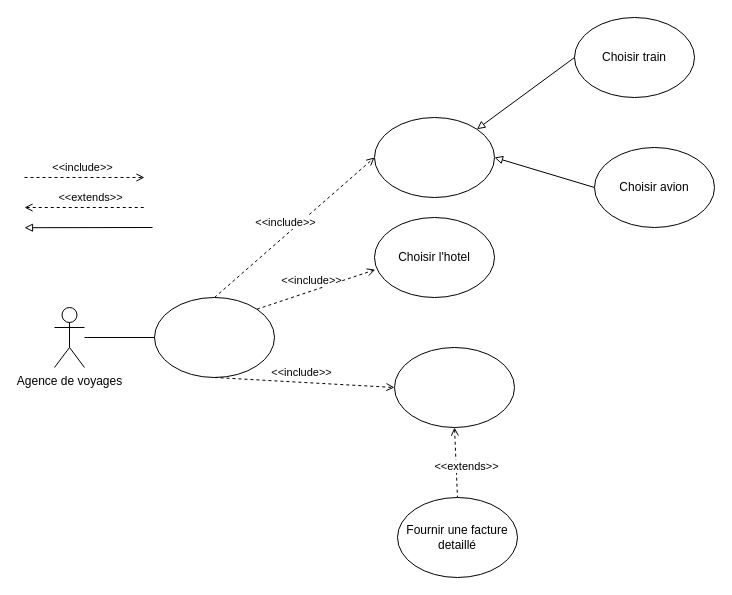
Image size: 732x595. Some labels were removed from this diagram. The shapes that lost their labels are listed below. From the top down, each one's centre as x and y in pixels, then its label:
the point at 434,157: Choisir moyenne de transport
the point at 214,337: Reserver un voyage organisé
the point at 454,387: Payer
